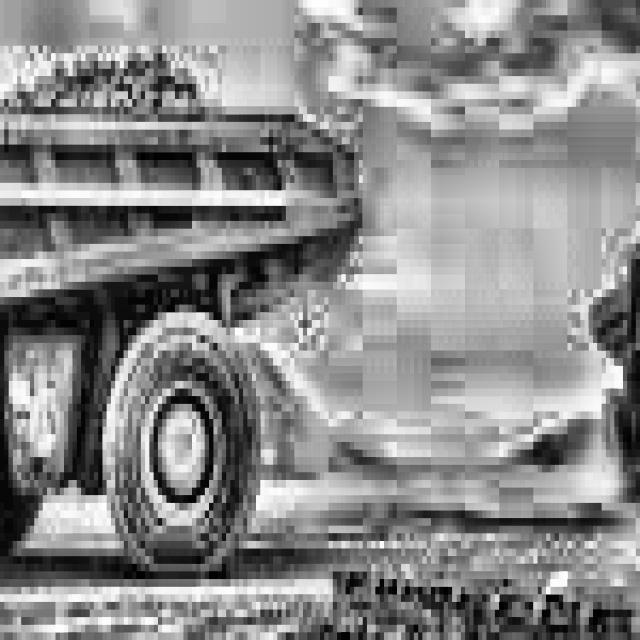dump_truck: (0, 0, 388, 640)
